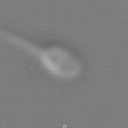normal: (1, 26, 40, 61)
